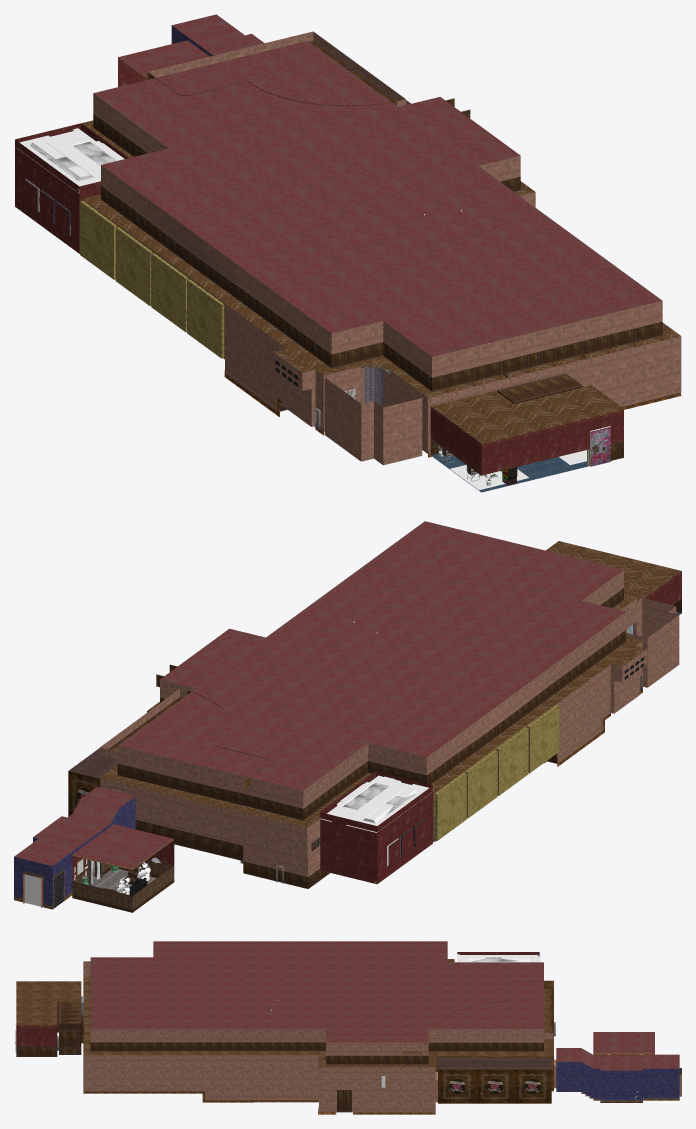
Rendered from triangle.glb.
The picture shows the model from 3 angles, top to bottom: view 1: azimuth 30°, elevation 25°; view 2: azimuth 150°, elevation 25°; view 3: azimuth 270°, elevation 25°; orthographic projection. The views are drawn at different scales.
Visible parts, largest first — view 1: mainminge.006, mainminge.002, mainminge.018, mainminge.019, mainminge.005, mainminge.014, clamchange_ncl1_1, mainminge.012, mainminge.015, mainminge.008, triangintsign_ncl1_1.002, clamglassblock.001 (+2 smaller); view 2: mainminge.006, mainminge.002, mainminge.005, mainminge.019, mainminge.018, mainminge.014, clamchange_ncl1_1, mainminge.013, mainminge.020, mainminge.015, mainminge.009, mainminge.017 (+1 smaller); view 3: mainminge.006, mainminge.002, mainminge.005, mainminge.018, mainminge.009, mainminge.013, mainminge.008, mainminge.017, mainminge.019, clamchange_ncl1_1, mainminge.011.
Part boxes in pixels (x1,y1,x2,y2): mainminge.006: (93,14,661,356); mainminge.002: (93,31,681,465); mainminge.018: (81,120,680,443); mainminge.019: (15,57,623,475); mainminge.005: (93,41,662,460); mainminge.014: (80,201,221,357); clamchange_ncl1_1: (14,128,124,193); mainminge.012: (431,451,589,492); mainminge.015: (80,199,224,359); mainminge.008: (147,72,681,457); triangintsign_ncl1_1.002: (450,450,586,490); clamglassblock.001: (361,364,389,406); mainminge.006: (14,521,625,869); mainminge.002: (100,570,679,876); mainminge.005: (108,588,681,888); mainminge.019: (72,571,681,884); mainminge.018: (100,541,681,827); mainminge.014: (437,706,559,840); clamchange_ncl1_1: (320,775,433,832); mainminge.013: (14,796,135,906); mainminge.020: (72,861,174,909); mainminge.015: (93,703,558,862); mainminge.009: (68,771,99,816); mainminge.017: (69,748,117,778); mainminge.006: (90,941,679,1070); mainminge.002: (83,961,556,1112); mainminge.005: (16,987,553,1112); mainminge.018: (16,959,553,1067); mainminge.009: (438,1069,551,1103); mainminge.013: (556,1062,679,1100); mainminge.008: (83,981,553,1114); mainminge.017: (438,1057,551,1069); mainminge.019: (16,952,539,1046); clamchange_ncl1_1: (457,954,540,962); mainminge.011: (593,1068,681,1102).
Size of what is drawn, in the model's own units: 27.09 by 8.06 by 67.61.
Materials: 242 (135 with a texture image).
